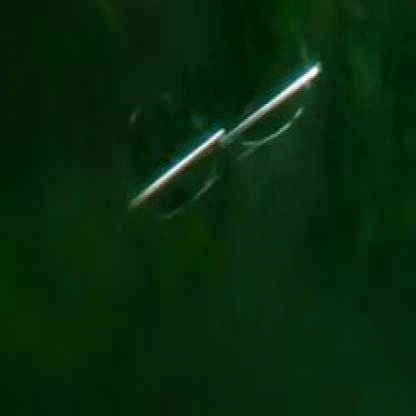sunglasses: (98, 50, 384, 242)
